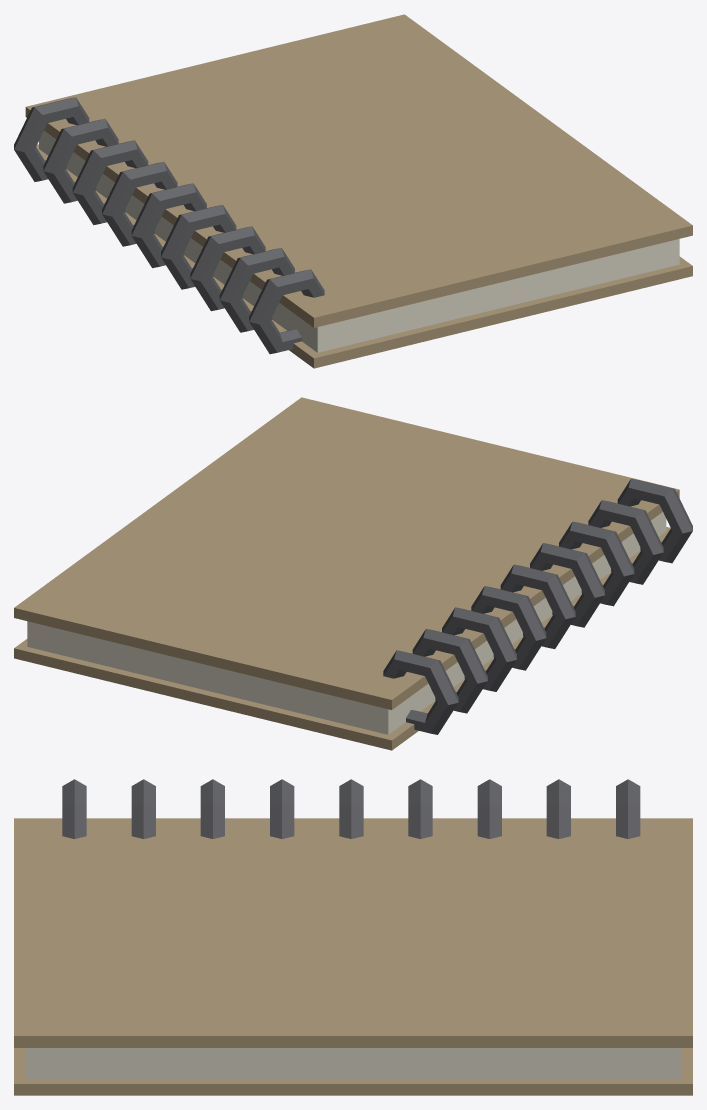
Rendered from notebook-closed.fbx.
3 renders of one model, top to bottom at view 1: azimuth 30°, elevation 25°; view 2: azimuth 150°, elevation 25°; view 3: azimuth 270°, elevation 25°, orthographic. The views are drawn at different scales.
Parts seen in each view (by area): view 1: closed_notebook; view 2: closed_notebook; view 3: closed_notebook.
Part boxes in pixels (x1,y1,x2,y2): closed_notebook: [14, 14, 692, 368]; closed_notebook: [14, 397, 692, 750]; closed_notebook: [14, 779, 692, 1095].
Bounding box in the file's own units: 28.75 × 4.93 × 34.34.
